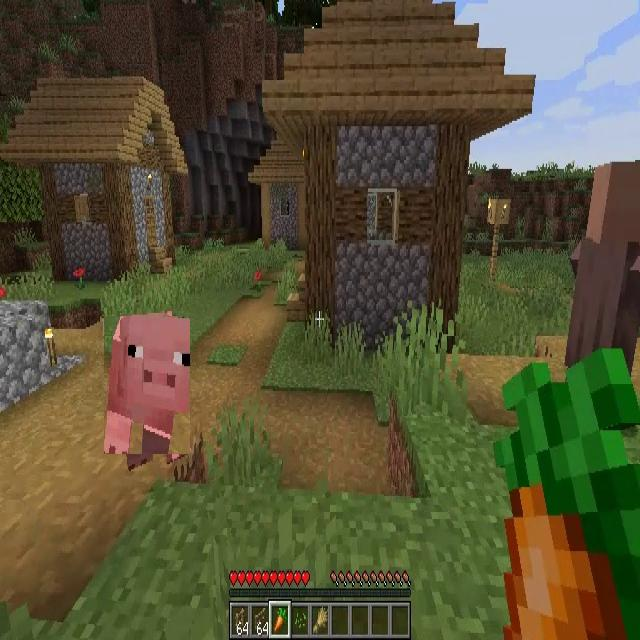people: (565, 160, 640, 380)
pig: (104, 316, 190, 454)
